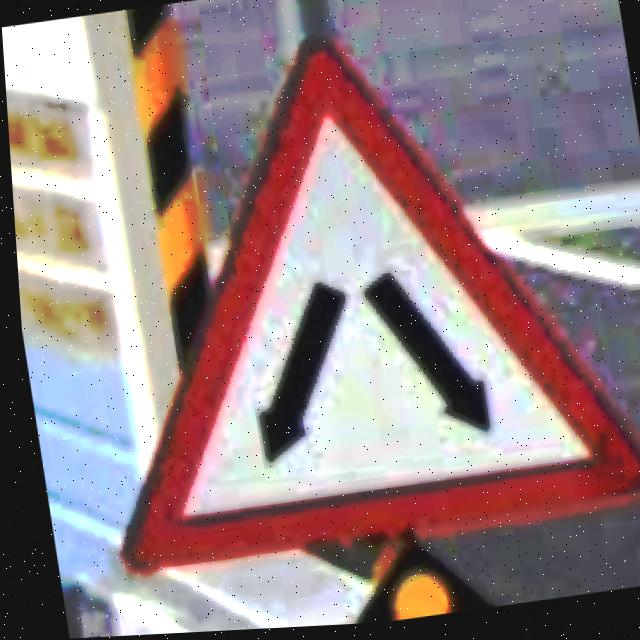diverge: (120, 45, 640, 570)
